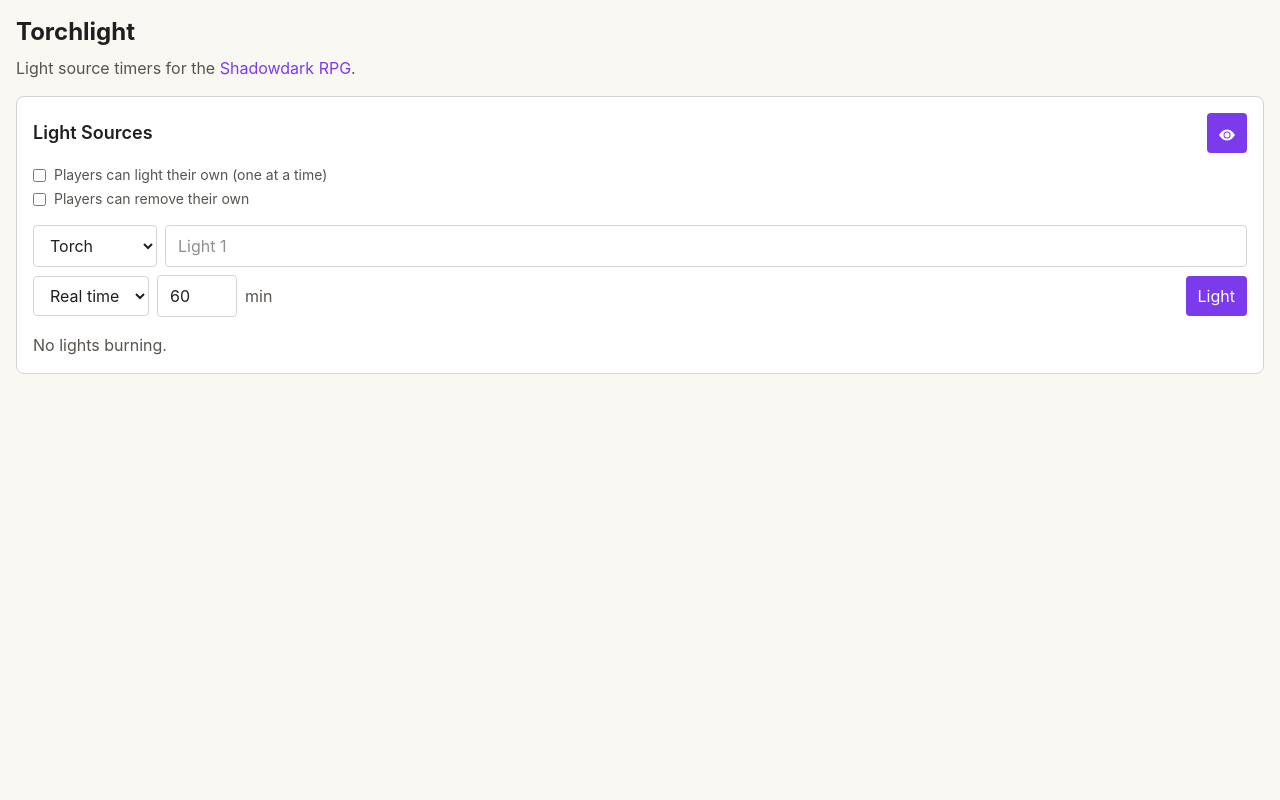
Test: Main (Torchlight) › adds a burning light with a default name and saves it to the room
The image size is (1280, 800).
Click the button "Light".
click(1216, 296)  # box [1186,276,1247,316]
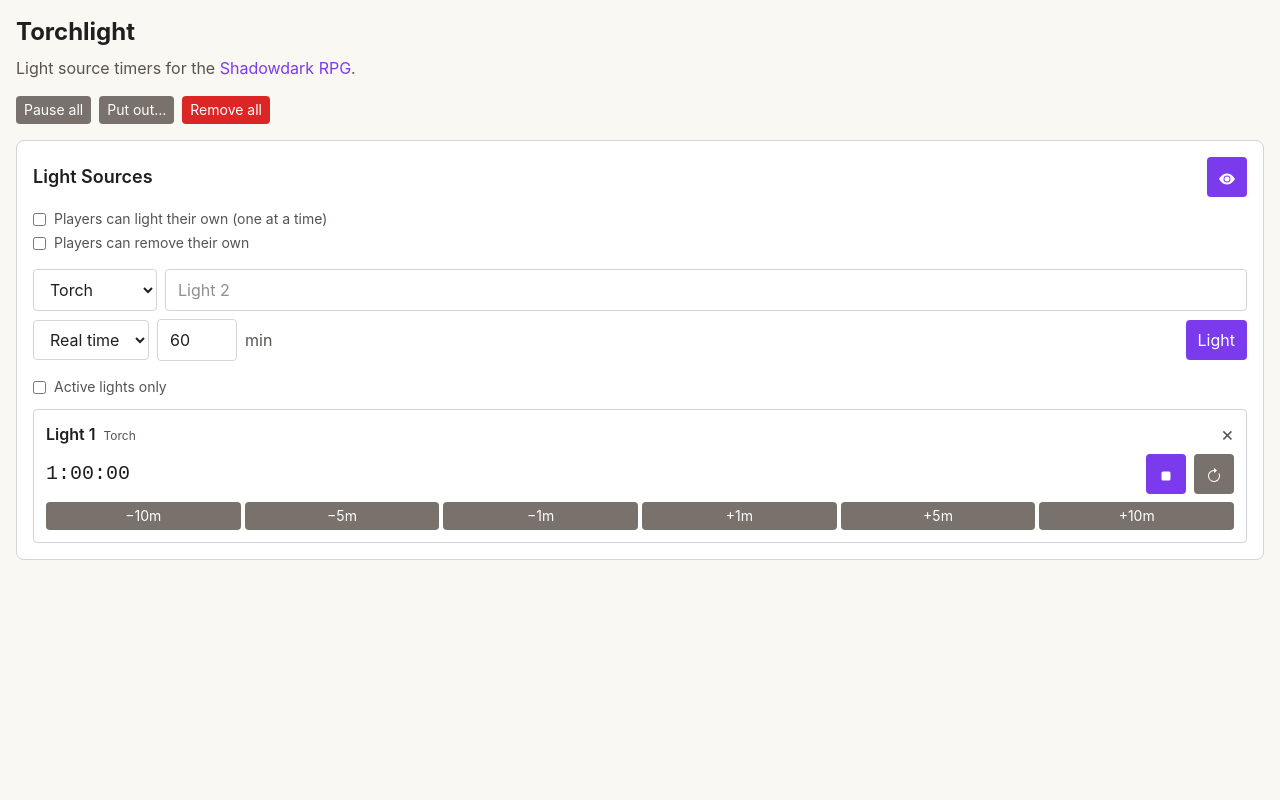
Check: the text "Light 1" is shown, box [46,424,96,444]
